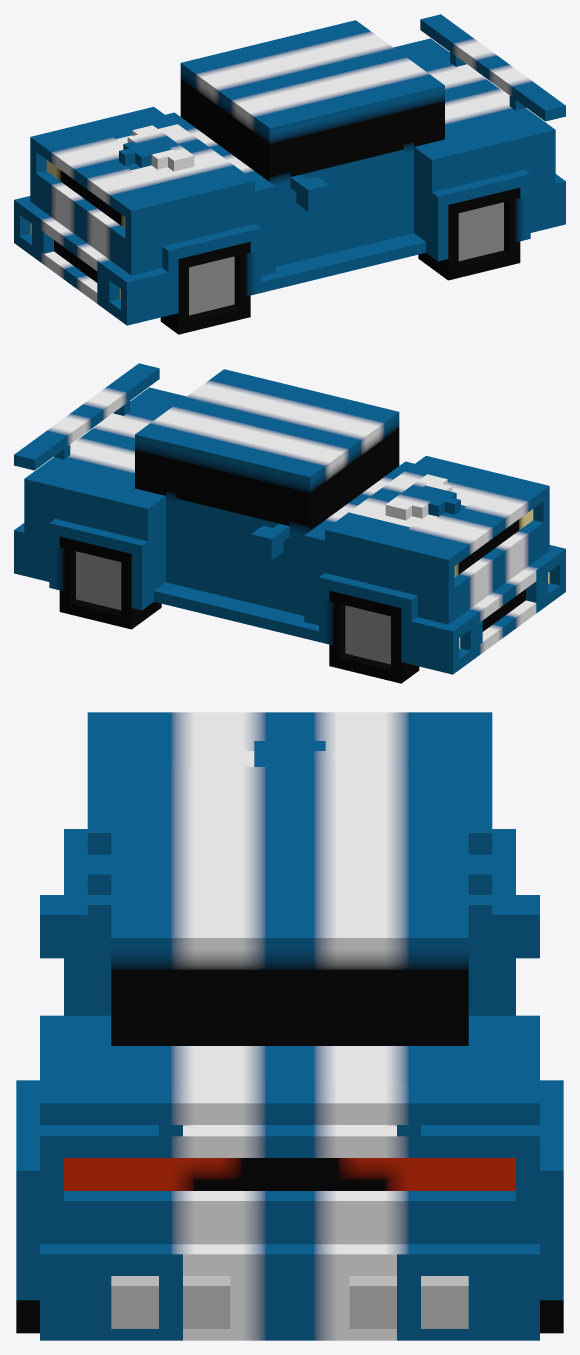
Rendered from Muscle Car.obj.
3 renders of one model, top to bottom at view 1: azimuth 30°, elevation 25°; view 2: azimuth 150°, elevation 25°; view 3: azimuth 270°, elevation 25°, orthographic. The views are drawn at different scales.
Parts seen in each view (by area): view 1: Car13; view 2: Car13; view 3: Car13.
Boxes of the visible parts, x1,y1,x2,y2 form: Car13: (14,14,565,334); Car13: (14,363,565,683); Car13: (16,712,563,1340).
Bounding box in the file's own units: 2.15 × 0.8 × 1.15.
1 material, 1 textured.
